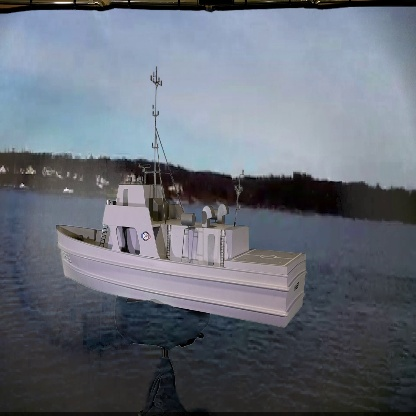YP689: (57, 63, 308, 331)
